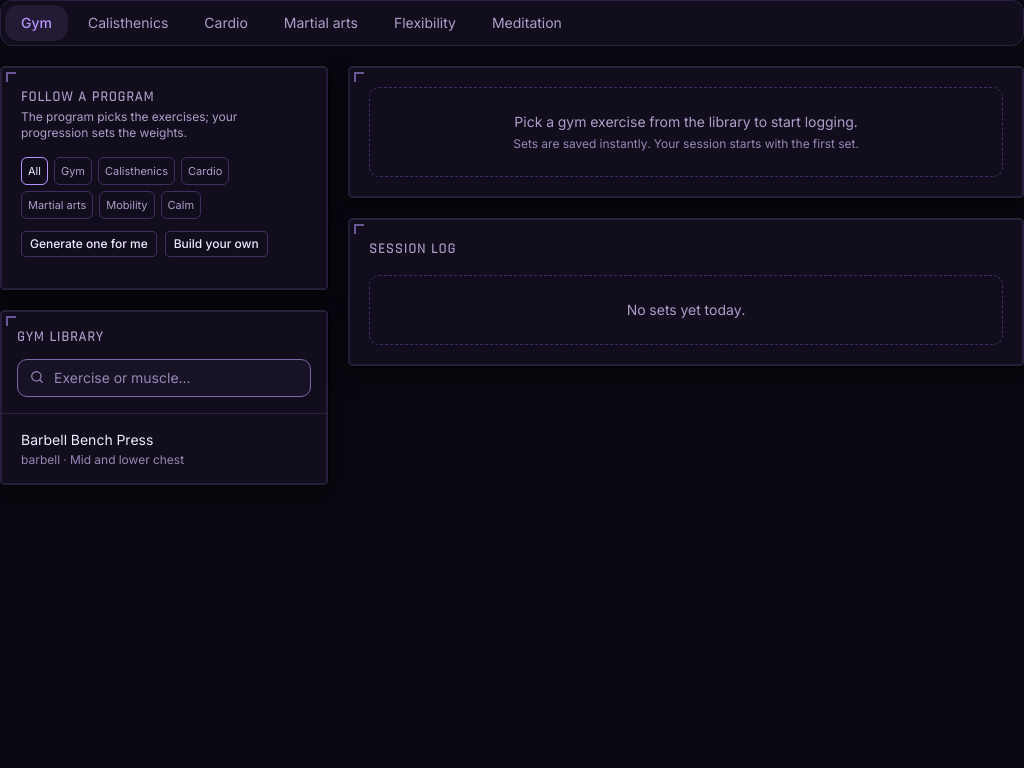
Test: Training page › fills the inputs from the progression suggestion, and Keep mine goes back to last time
Click the text "Barbell Bench Press".
click(87, 440)  # box [21,431,153,448]
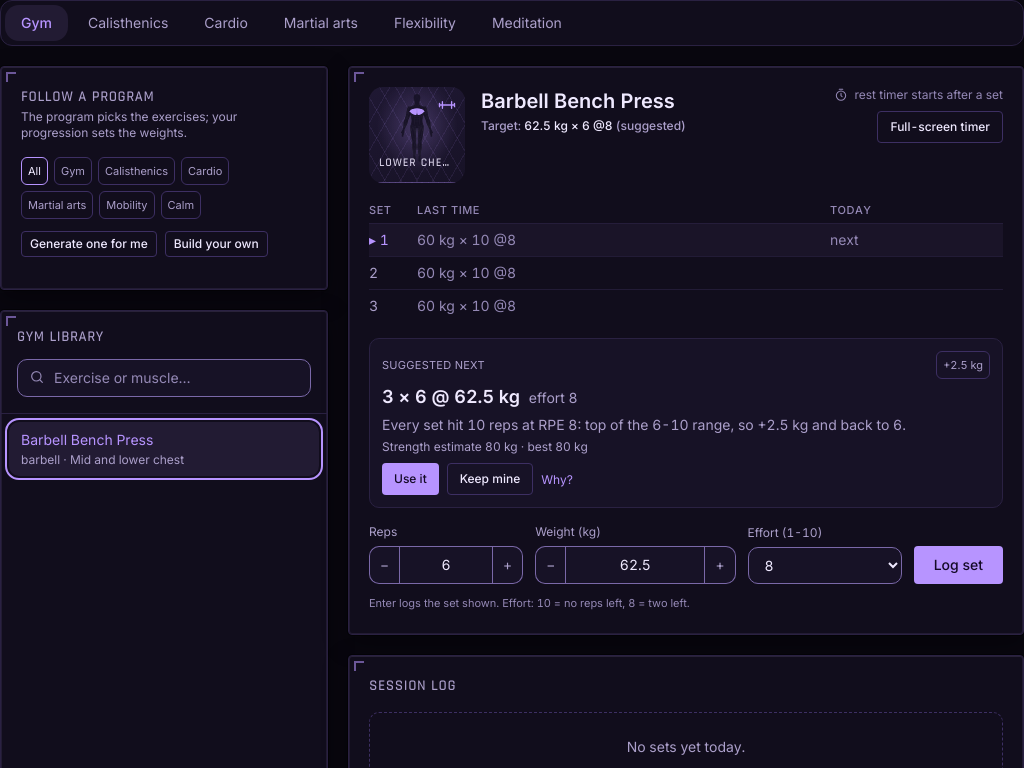
Result: the element with test id "suggestion-target" shows "3 × 6 @ 62.5 kg" at [382,386,520,407]
Result: the text with test id "suggestion-change" reads "+2.5 kg" at [943,358,983,372]
Result: the number field named "Reps" holds "6" at [399,546,493,584]
Click the button "Keep mine".
click(490, 479)  # box [447,463,533,495]
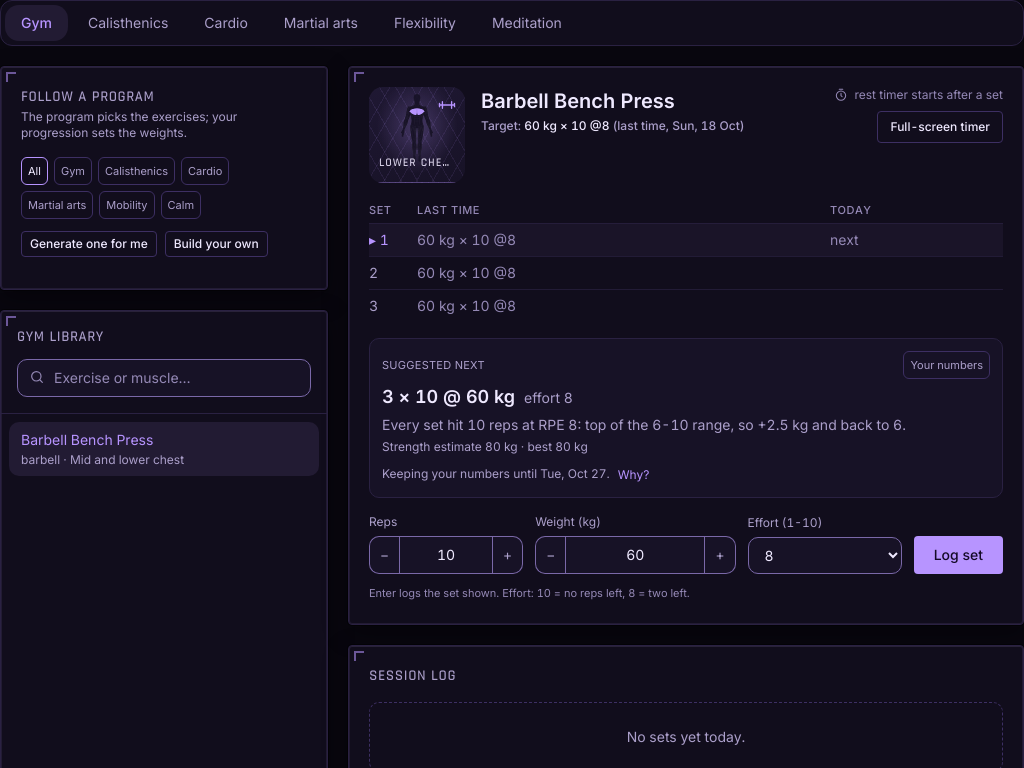
Result: the number field named "Reps" holds "10" at [399,536,493,574]
Result: the text "Keeping your numbers until Tue, Oct 27." is shown at [382,466,610,482]
